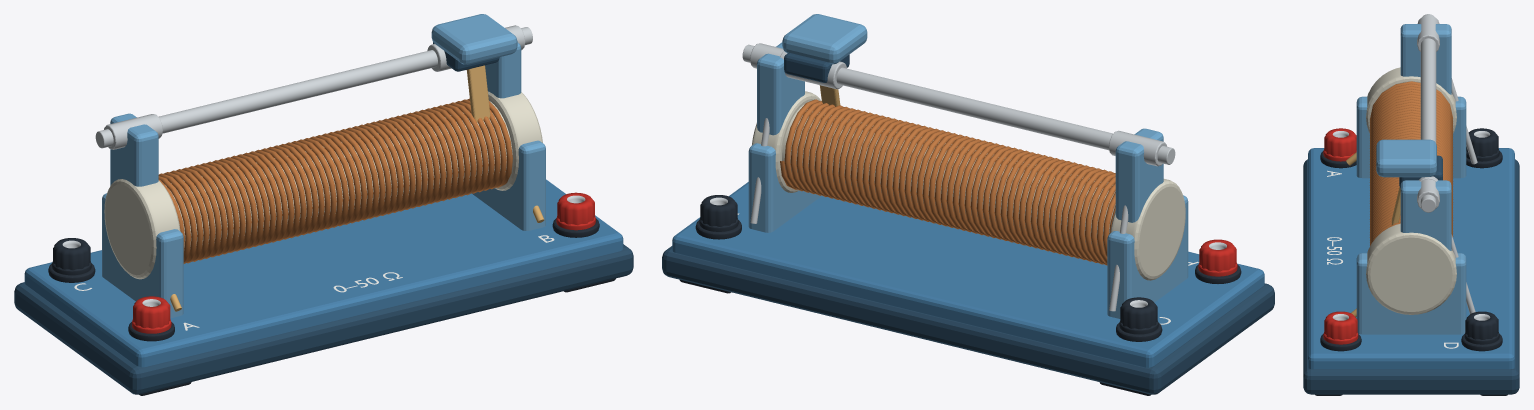
The model's file is sliding-rheostat.glb.
The picture shows the model from 3 angles, left to right: view 1: azimuth 30°, elevation 25°; view 2: azimuth 150°, elevation 25°; view 3: azimuth 270°, elevation 25°; orthographic projection. The views are drawn at different scales.
Visible parts, largest first — view 1: Rheostat platform shoulder, Spiral resistance winding, Rheostat grooved platform, Polished slider rail, Ceramic winding insulator, Upright coil cradle, Ceramic coil core, Upright coil cradle.001, Molded slider handle, Rail support tab, Ceramic winding insulator.001, Rail support tab.001 (+5 smaller); view 2: Rheostat platform shoulder, Spiral resistance winding, Rheostat grooved platform, Polished slider rail, Ceramic winding insulator, Ceramic coil core, Upright coil cradle, Upright coil cradle.001, Molded slider handle, Rail support tab, Rail support tab.001, Ceramic winding insulator.001 (+5 smaller); view 3: Rheostat platform shoulder, Rheostat grooved platform, Ceramic winding insulator.001, Spiral resistance winding, Upright coil cradle.001, Rail support tab.001, Molded slider handle, Upright coil cradle, Rail support tab, Polished slider rail, Ceramic winding insulator, coil-other binding socket (+15 smaller).
Part boxes in pixels (x1=…): Rheostat platform shoulder: x1=24, y1=179, x2=623, y2=367; Spiral resistance winding: x1=158, y1=98, x2=512, y2=263; Rheostat grooved platform: x1=14, y1=244, x2=633, y2=394; Polished slider rail: x1=95, y1=27, x2=532, y2=148; Ceramic winding insulator: x1=104, y1=179, x2=180, y2=279; Upright coil cradle: x1=102, y1=193, x2=183, y2=318; Ceramic coil core: x1=165, y1=101, x2=512, y2=250; Upright coil cradle.001: x1=472, y1=140, x2=545, y2=230; Molded slider handle: x1=431, y1=14, x2=517, y2=64; Rail support tab: x1=110, y1=113, x2=158, y2=186; Ceramic winding insulator.001: x1=488, y1=91, x2=542, y2=190; Rail support tab.001: x1=485, y1=42, x2=521, y2=98; Rheostat platform shoulder: x1=672, y1=182, x2=1264, y2=367; Spiral resistance winding: x1=780, y1=99, x2=1115, y2=265; Rheostat grooved platform: x1=662, y1=246, x2=1274, y2=394; Polished slider rail: x1=742, y1=44, x2=1175, y2=164; Ceramic winding insulator: x1=1110, y1=179, x2=1185, y2=280; Ceramic coil core: x1=782, y1=104, x2=1115, y2=248; Upright coil cradle: x1=1107, y1=195, x2=1188, y2=318; Upright coil cradle.001: x1=748, y1=143, x2=821, y2=232; Molded slider handle: x1=782, y1=14, x2=867, y2=64; Rail support tab: x1=1115, y1=128, x2=1163, y2=222; Rail support tab.001: x1=757, y1=42, x2=804, y2=135; Ceramic winding insulator.001: x1=751, y1=91, x2=820, y2=192; Rheostat platform shoulder: x1=1308, y1=148, x2=1514, y2=369; Rheostat grooved platform: x1=1303, y1=159, x2=1519, y2=394; Ceramic winding insulator.001: x1=1366, y1=223, x2=1456, y2=314; Spiral resistance winding: x1=1369, y1=81, x2=1453, y2=245; Upright coil cradle.001: x1=1356, y1=253, x2=1466, y2=334; Rail support tab.001: x1=1400, y1=180, x2=1451, y2=250; Molded slider handle: x1=1376, y1=139, x2=1436, y2=177; Upright coil cradle: x1=1356, y1=96, x2=1466, y2=178; Rail support tab: x1=1400, y1=24, x2=1451, y2=94; Polished slider rail: x1=1420, y1=14, x2=1436, y2=212; Ceramic winding insulator: x1=1366, y1=67, x2=1456, y2=133; coil-other binding socket: x1=1324, y1=311, x2=1357, y2=339.
Bounding box in the file's own units: 0.211 × 0.0945 × 0.089.
